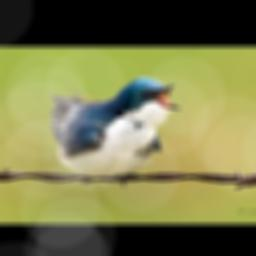Swallow: (50, 73, 185, 185)
